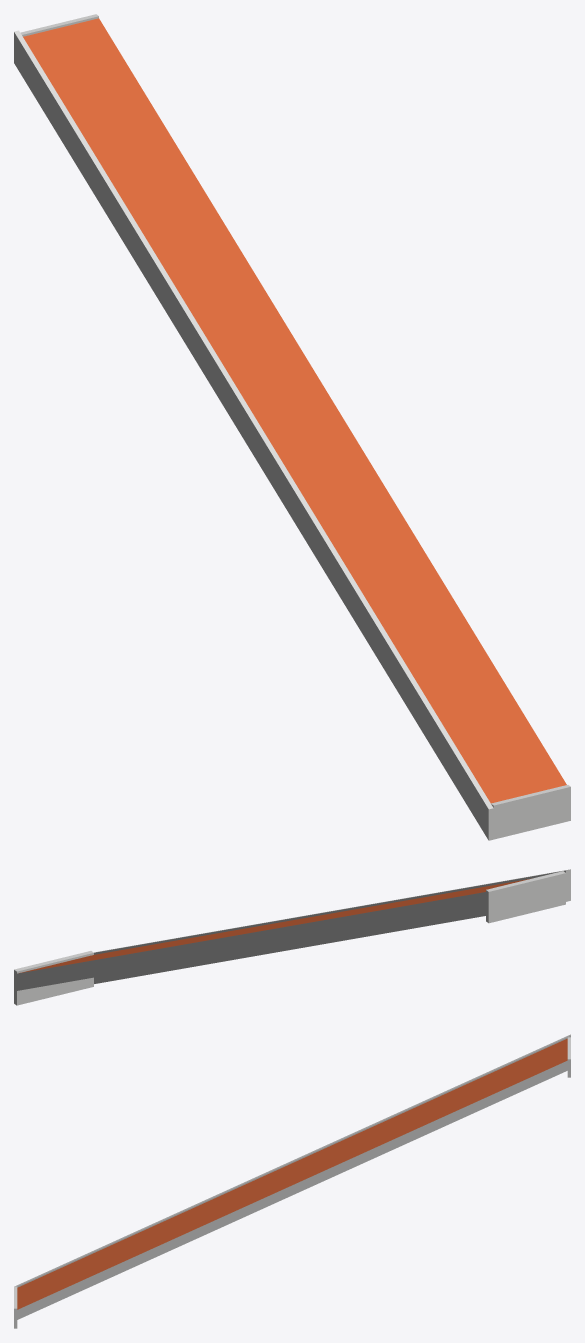
File: telhado_meia_agua_empena_esq_v4_i50.glb
3 renders of one model, top to bottom at view 1: azimuth 30°, elevation 25°; view 2: azimuth 210°, elevation 25°; view 3: azimuth 270°, elevation 25°, orthographic. The views are drawn at different scales.
Visible parts, largest first — view 1: telhado_meia_agua_empena_esq_v4_i50; view 2: telhado_meia_agua_empena_esq_v4_i50; view 3: telhado_meia_agua_empena_esq_v4_i50.
Boxes of the visible parts, x1,y1,x2,y2 form: telhado_meia_agua_empena_esq_v4_i50: (14, 14, 570, 840); telhado_meia_agua_empena_esq_v4_i50: (14, 869, 570, 1005); telhado_meia_agua_empena_esq_v4_i50: (14, 1034, 570, 1328).
Size of the model in its own units: 0.5 by 2.68 by 5.
